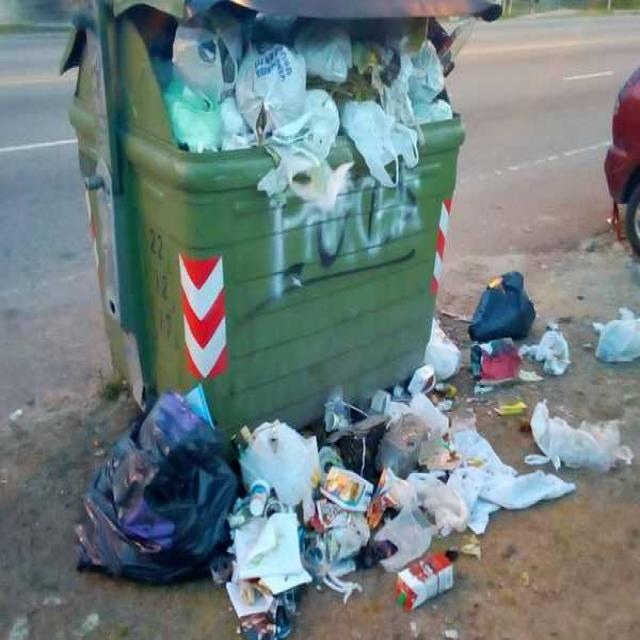garbage: (66, 388, 503, 640), (160, 7, 480, 206), (466, 264, 572, 390), (521, 396, 638, 476), (589, 296, 640, 370)
